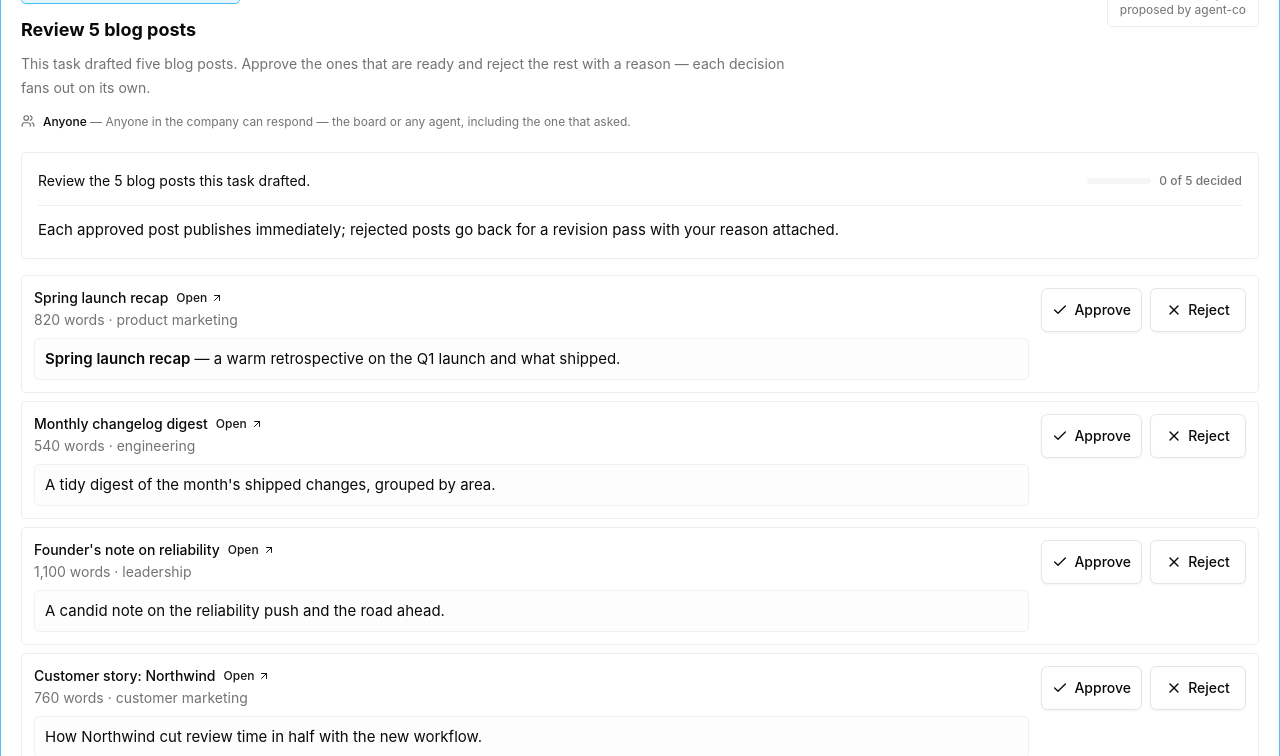
Test: IssueThreadInteractionCard › blocks apply for a rejected item until a reason is entered
Click the button "Reject" in the row of "820 words · product marketing" at (1198, 310), box [1150, 288, 1246, 332]
(page scrolled)
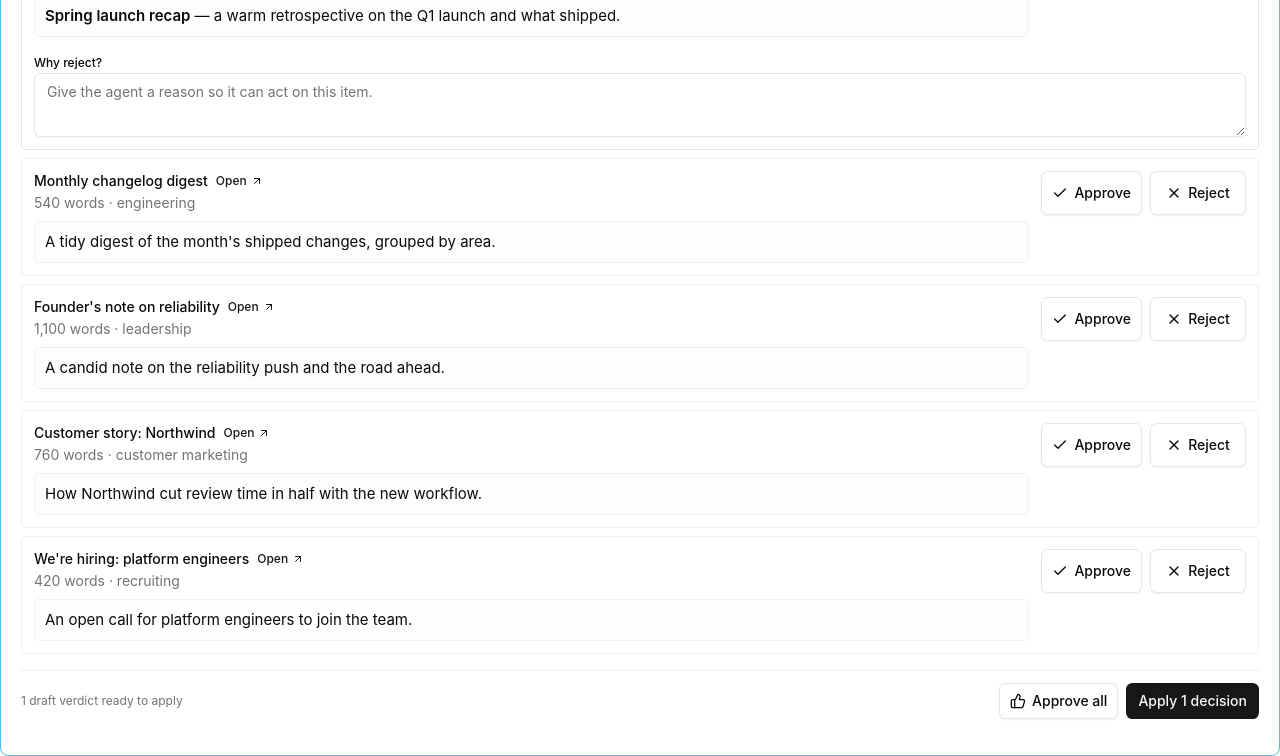
Click the button "Apply 1 decision" at (1193, 700), box [1126, 682, 1259, 718]
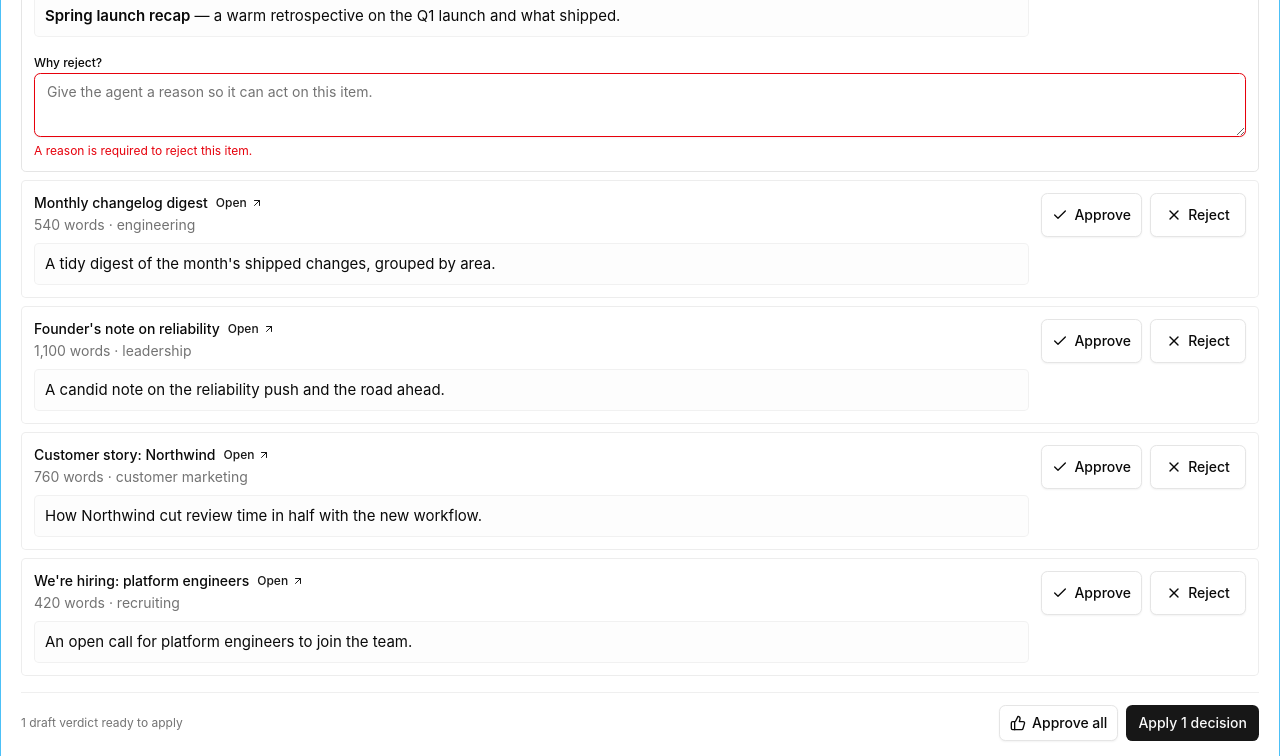
Expected: the text "A reason is required to reject this item." is shown, [34, 142, 252, 158]
